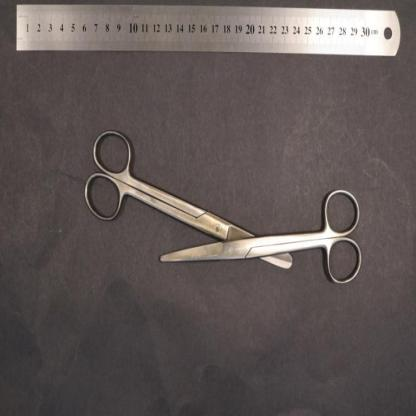Curved Mayo Scissors: (160, 186, 364, 286)
Dressing Scissors: (82, 127, 294, 271)
